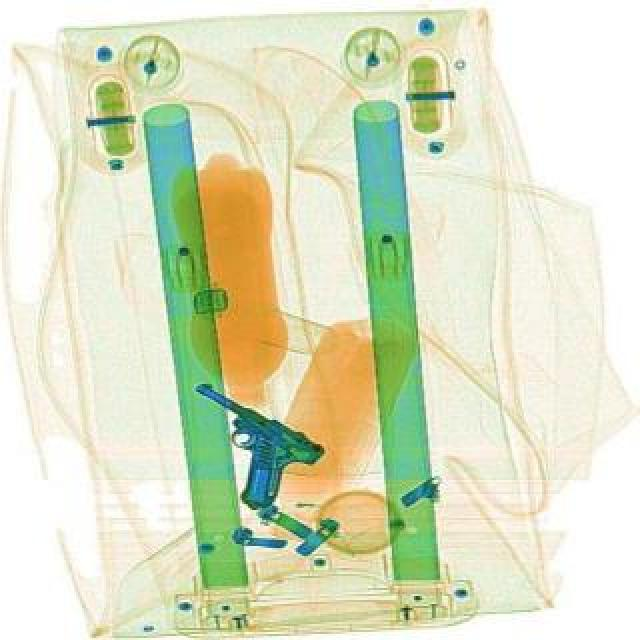gun: (156, 372, 330, 518)
